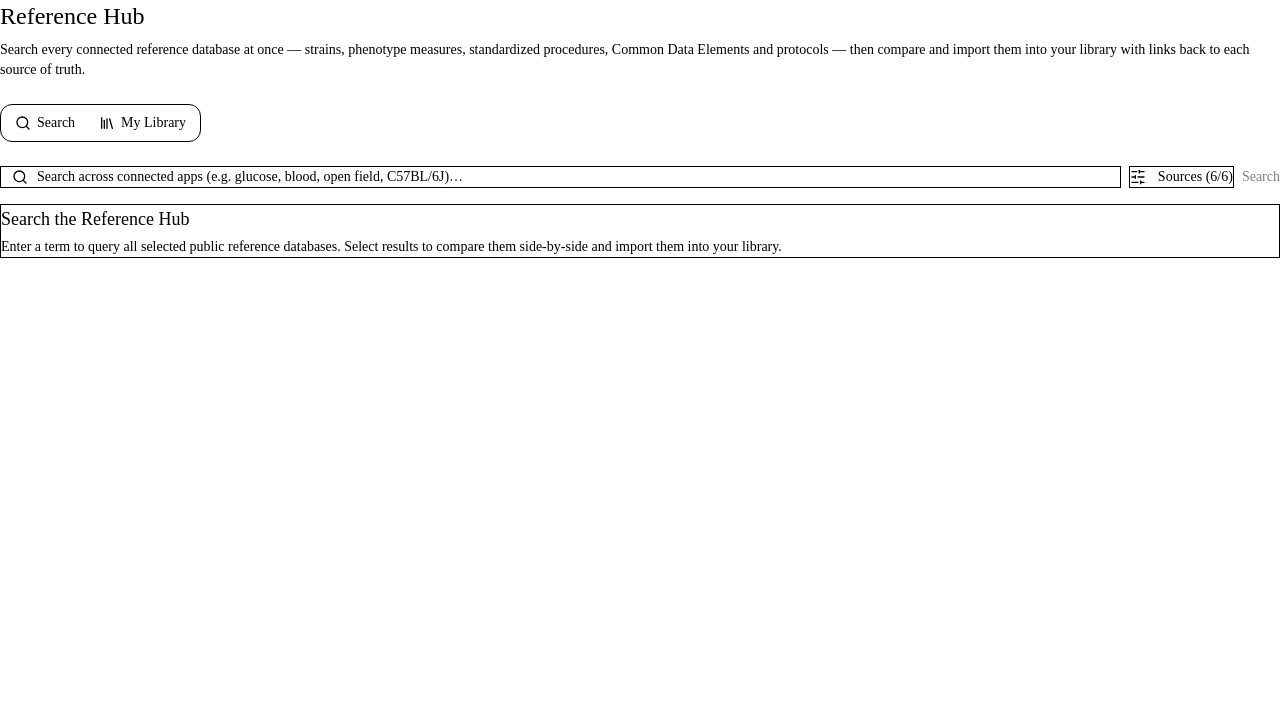
ReferenceHubPage › finds similar references for a library item
Click the tab "My Library": (143, 123) [87,107,198,139]
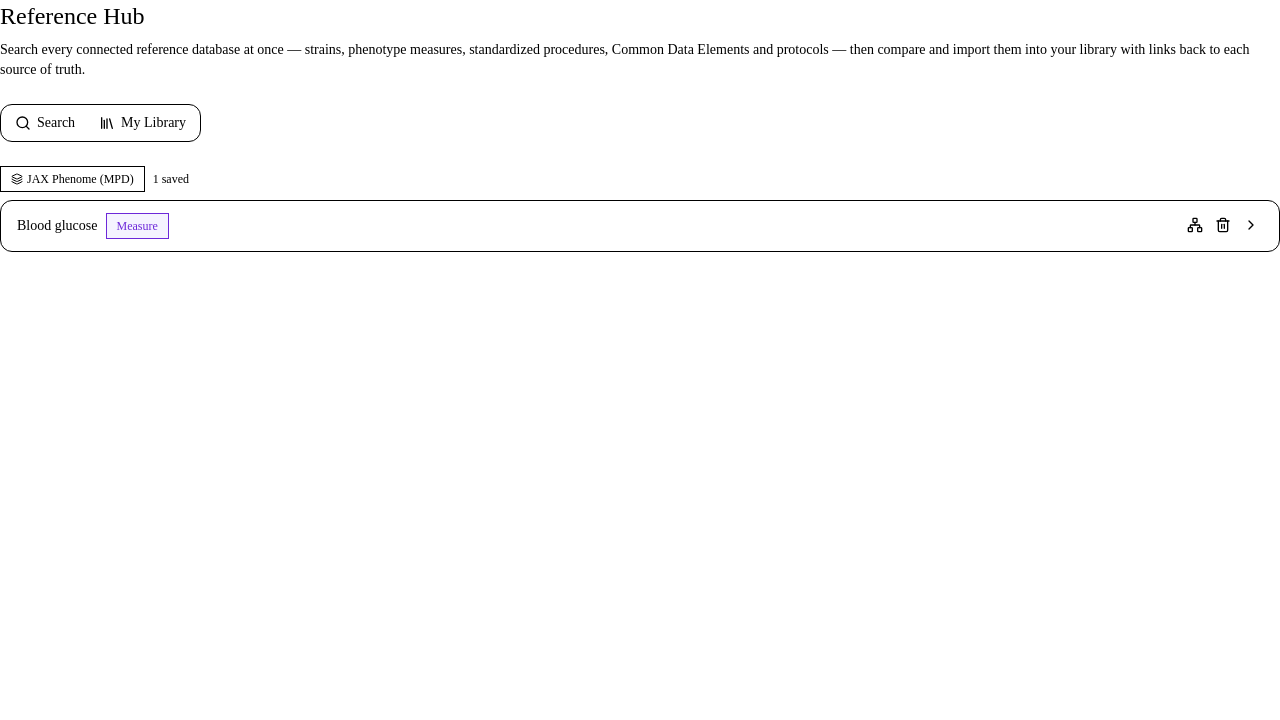
Expected: the text "Blood glucose" is shown, [17,216,98,236]
Click the button named "find references similar to blood glucose": (1195, 225) [1183,213,1207,237]
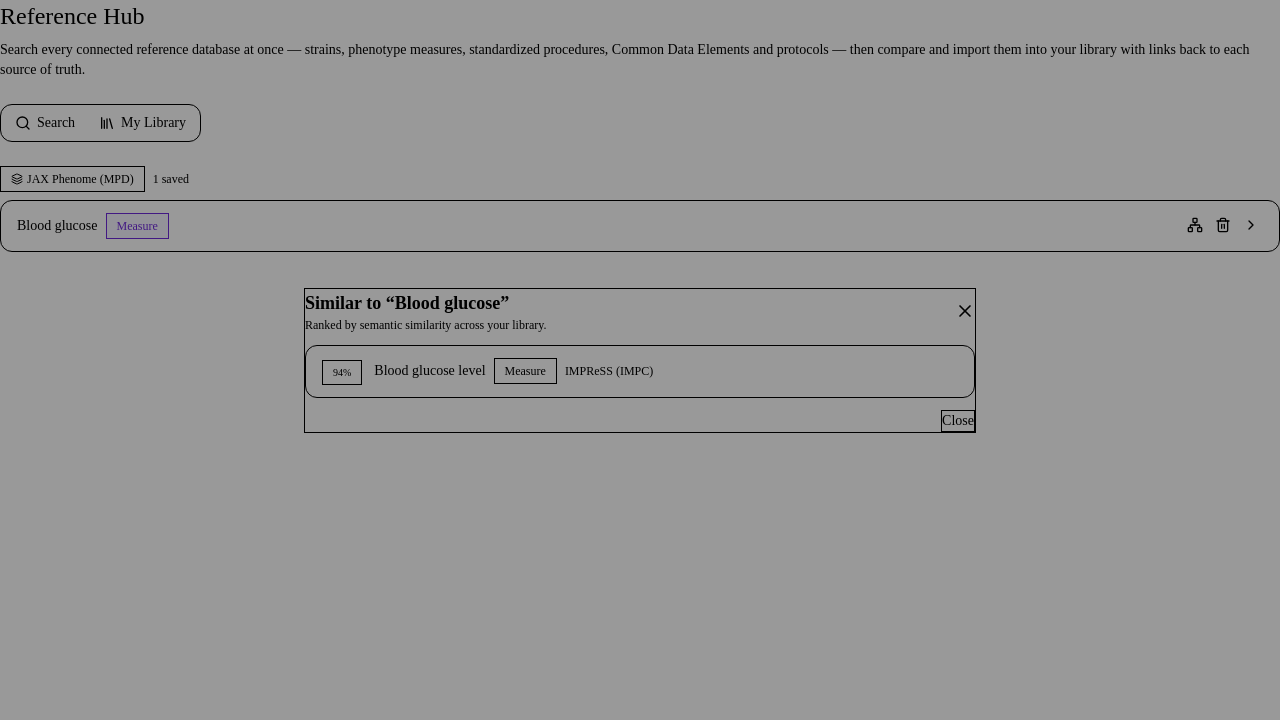
Expected: the text "Blood glucose level" is shown, [374,360,486,380]
Expected: the text "94%" is shown, [322,360,362,384]
